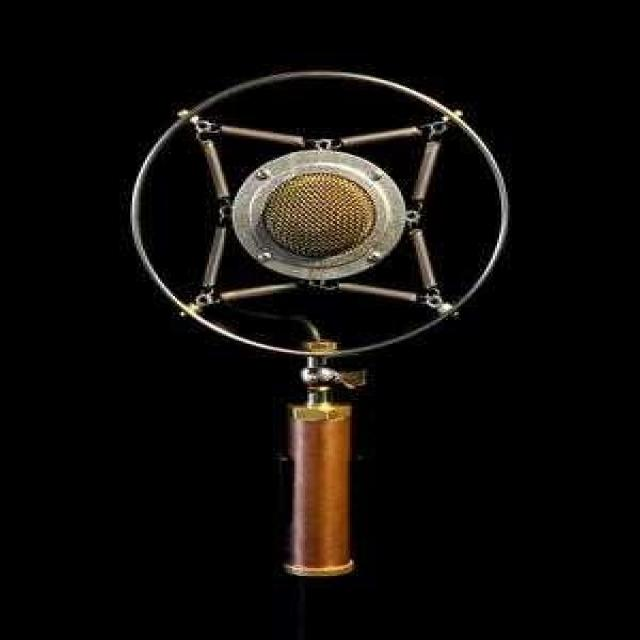microphone: (126, 77, 509, 572)
